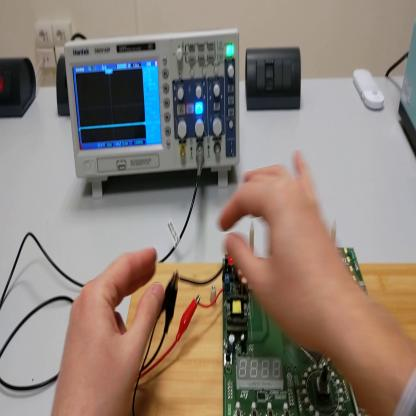hand: (218, 157, 347, 344), (52, 247, 165, 416)
low voltage board: (181, 224, 381, 415)
oscilloscope: (64, 30, 241, 196)
socket: (1, 58, 37, 117), (56, 52, 71, 116)
welder station: (398, 20, 416, 156)
working area: (126, 264, 415, 413)
